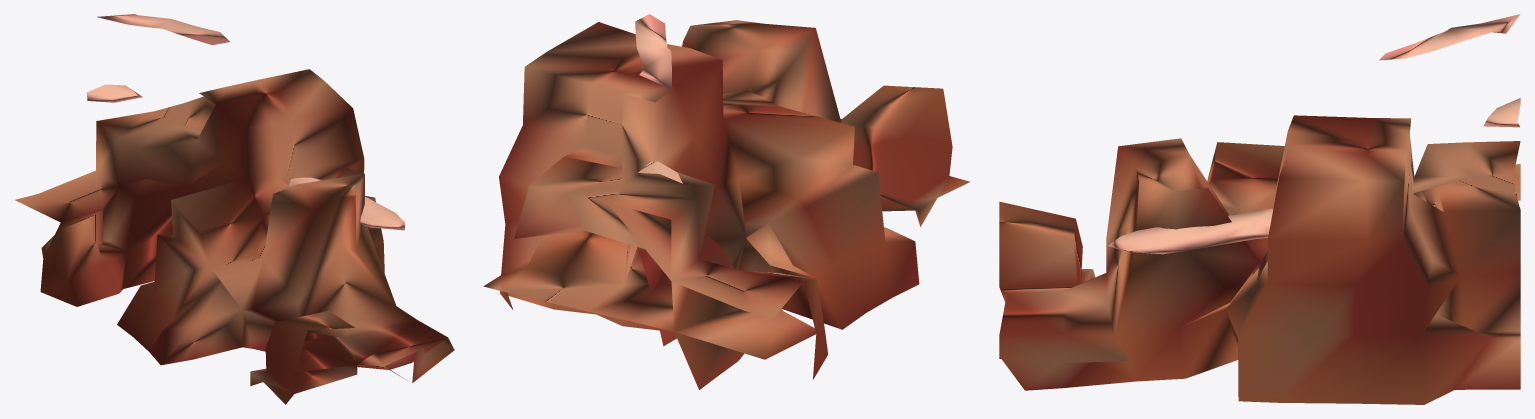
3 renders of one model, left to right at view 1: azimuth 30°, elevation 25°; view 2: azimuth 150°, elevation 25°; view 3: azimuth 270°, elevation 25°, orthographic. The views are drawn at different scales.
Parts seen in each view (by area): view 1: scene.l1.3.1 (×2); view 2: scene.l1.3.1 (×2); view 3: scene.l1.3.1 (×2).
Part boxes in pixels (x1,y1,x2,y2): scene.l1.3.1 (×2): (15, 14, 454, 404); scene.l1.3.1 (×2): (483, 14, 970, 389); scene.l1.3.1 (×2): (999, 14, 1520, 404).
Size of the model in its own units: 87.9 by 76.98 by 125.
